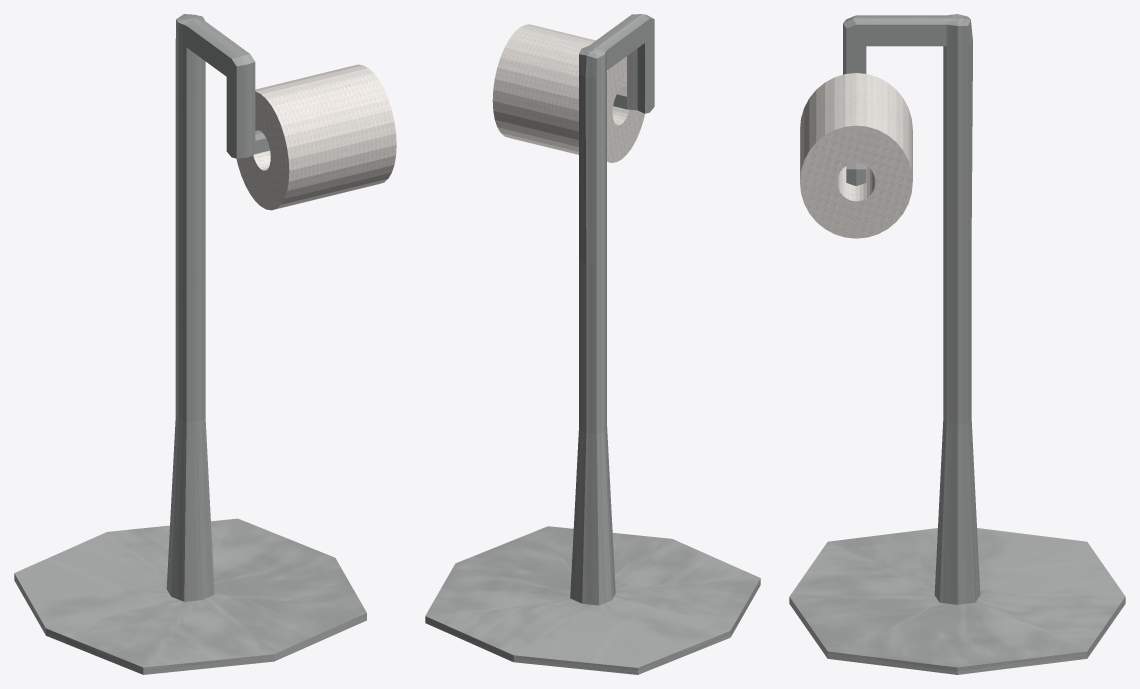
Rendered from papel_higienico.fbx.
3 views of the same model, side by side, from view 1: azimuth 30°, elevation 25°; view 2: azimuth 150°, elevation 25°; view 3: azimuth 270°, elevation 25° (orthographic). The views are drawn at different scales.
Parts seen in each view (by area): view 1: Cube, Cylinder; view 2: Cube, Cylinder; view 3: Cube, Cylinder.
Part boxes in pixels (box(x1,y1,x2,y2)): Cube: box(14, 14, 366, 674); Cylinder: box(236, 64, 396, 210); Cube: box(425, 14, 760, 674); Cylinder: box(492, 24, 644, 162); Cube: box(789, 14, 1125, 674); Cylinder: box(800, 73, 912, 238).
Bounding box in the file's own units: 191 × 368 × 191.
Materials: 2 (2 with a texture image).
